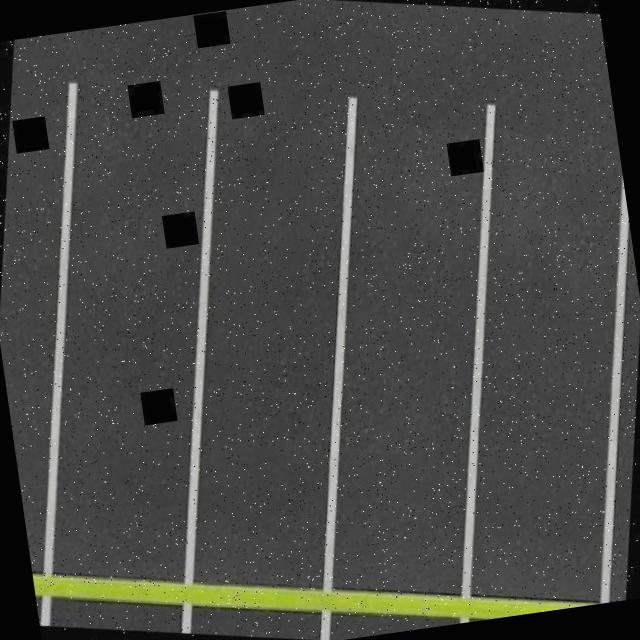free: (245, 74, 576, 629), (110, 70, 433, 635), (0, 50, 296, 621), (386, 89, 640, 624)
